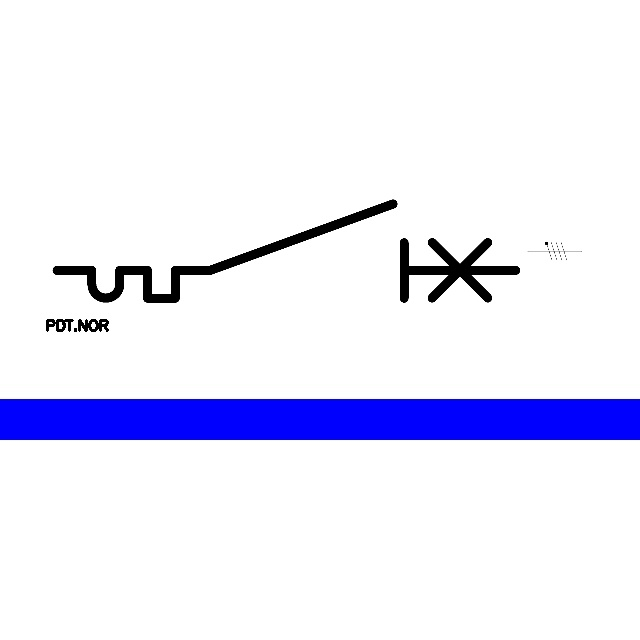interruptor_termomagnetico: (45, 192, 528, 310)
